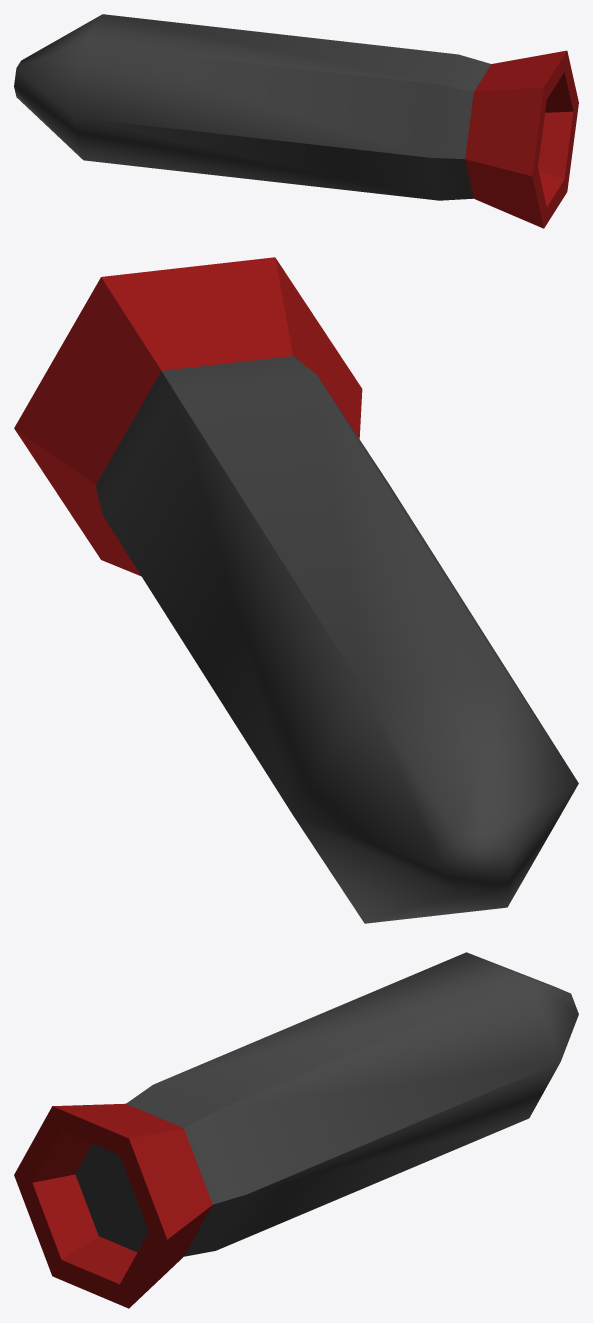
Rendered from Booster.fbx.
3 renders of one model, top to bottom at view 1: azimuth 30°, elevation 25°; view 2: azimuth 150°, elevation 25°; view 3: azimuth 270°, elevation 25°, orthographic. The views are drawn at different scales.
Parts seen in each view (by area): view 1: Booster; view 2: Booster; view 3: Booster.
Boxes of the visible parts, bbox=[...] form: Booster: bbox=[14, 14, 578, 228]; Booster: bbox=[14, 257, 578, 923]; Booster: bbox=[14, 952, 578, 1308].
Bounding box in the file's own units: 1.06 × 0.352 × 1.06.
